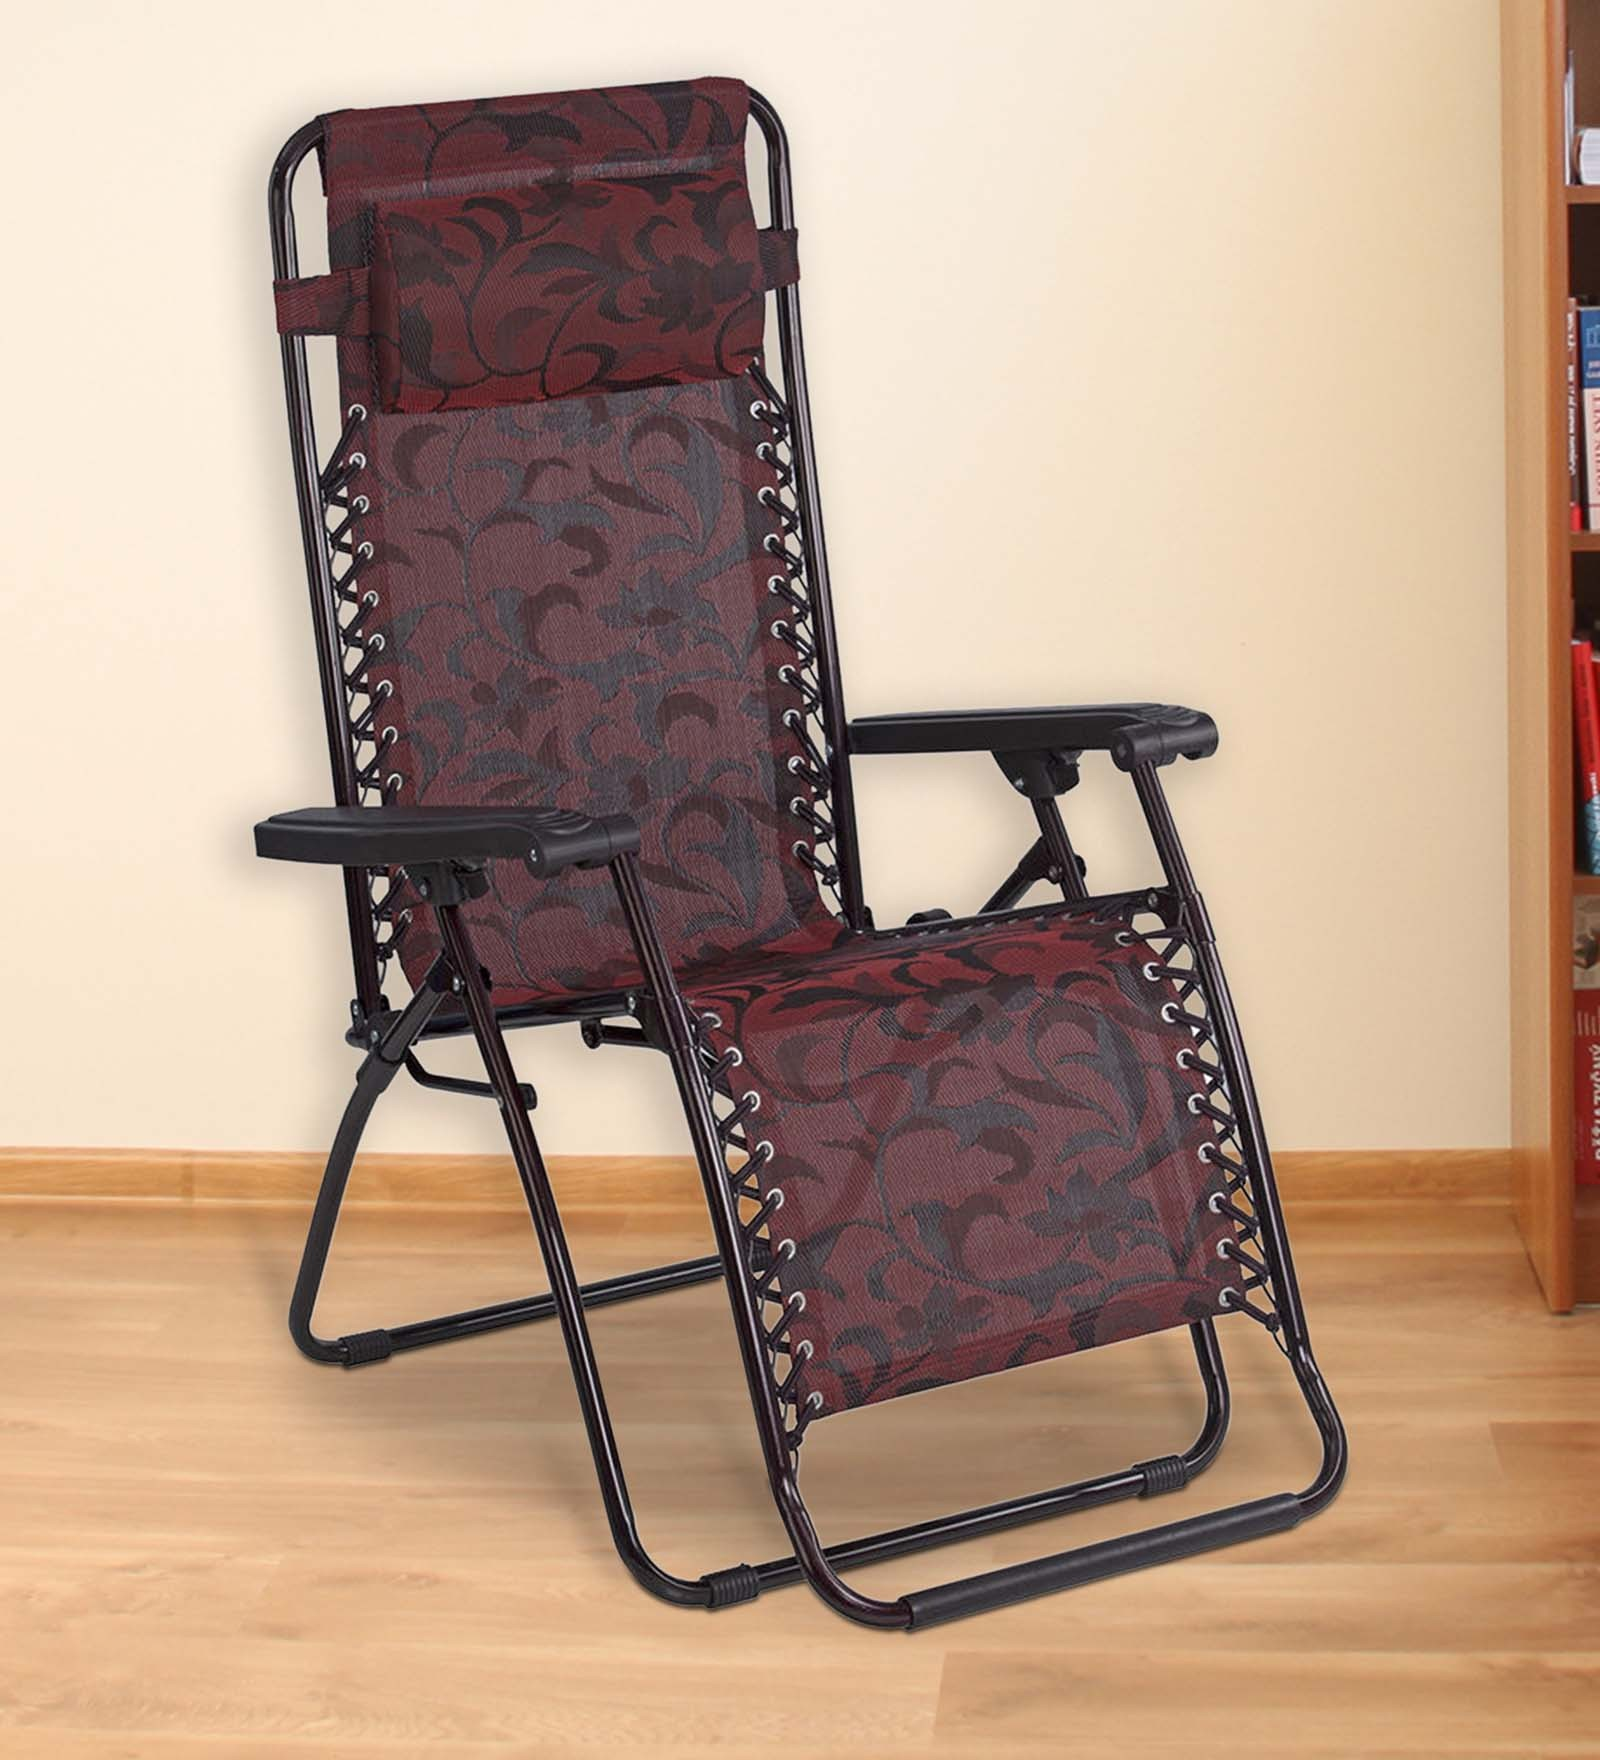Frolic Easy Foldable Chair in Purple & Red Colour by Nilkamal: (208, 48, 1415, 1657)
